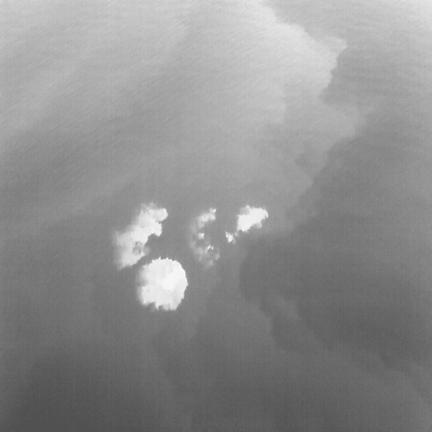flukeprints: (113, 203, 167, 269), (138, 258, 187, 309), (236, 205, 268, 235), (225, 231, 235, 242)
